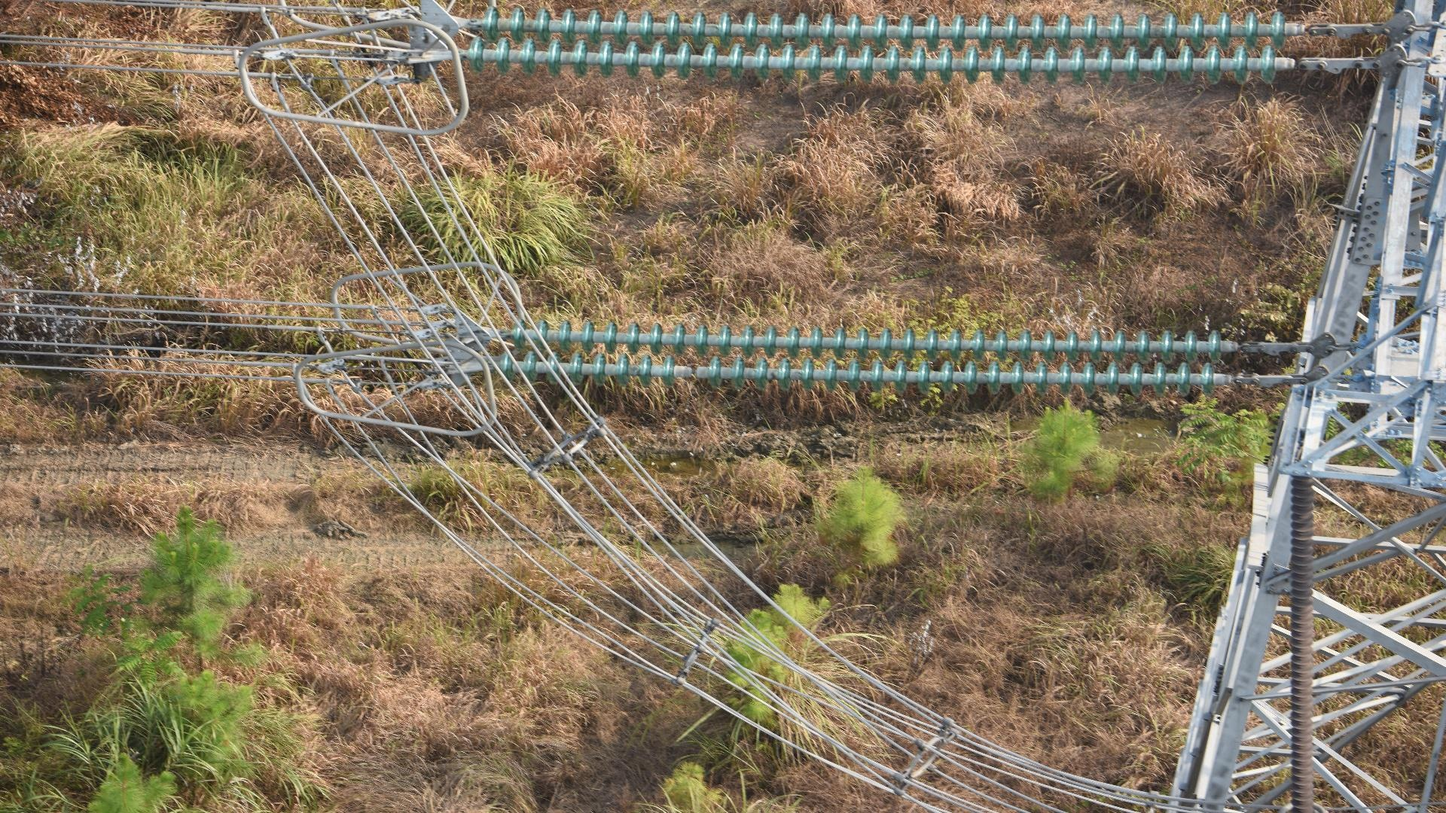insulator: (457, 2, 1296, 88), (491, 313, 1231, 403), (1283, 470, 1321, 813)
